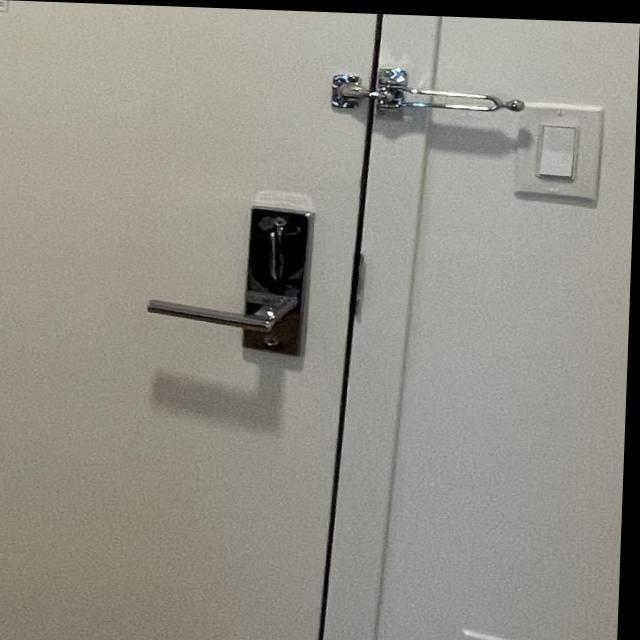door_handle: (128, 276, 335, 351)
